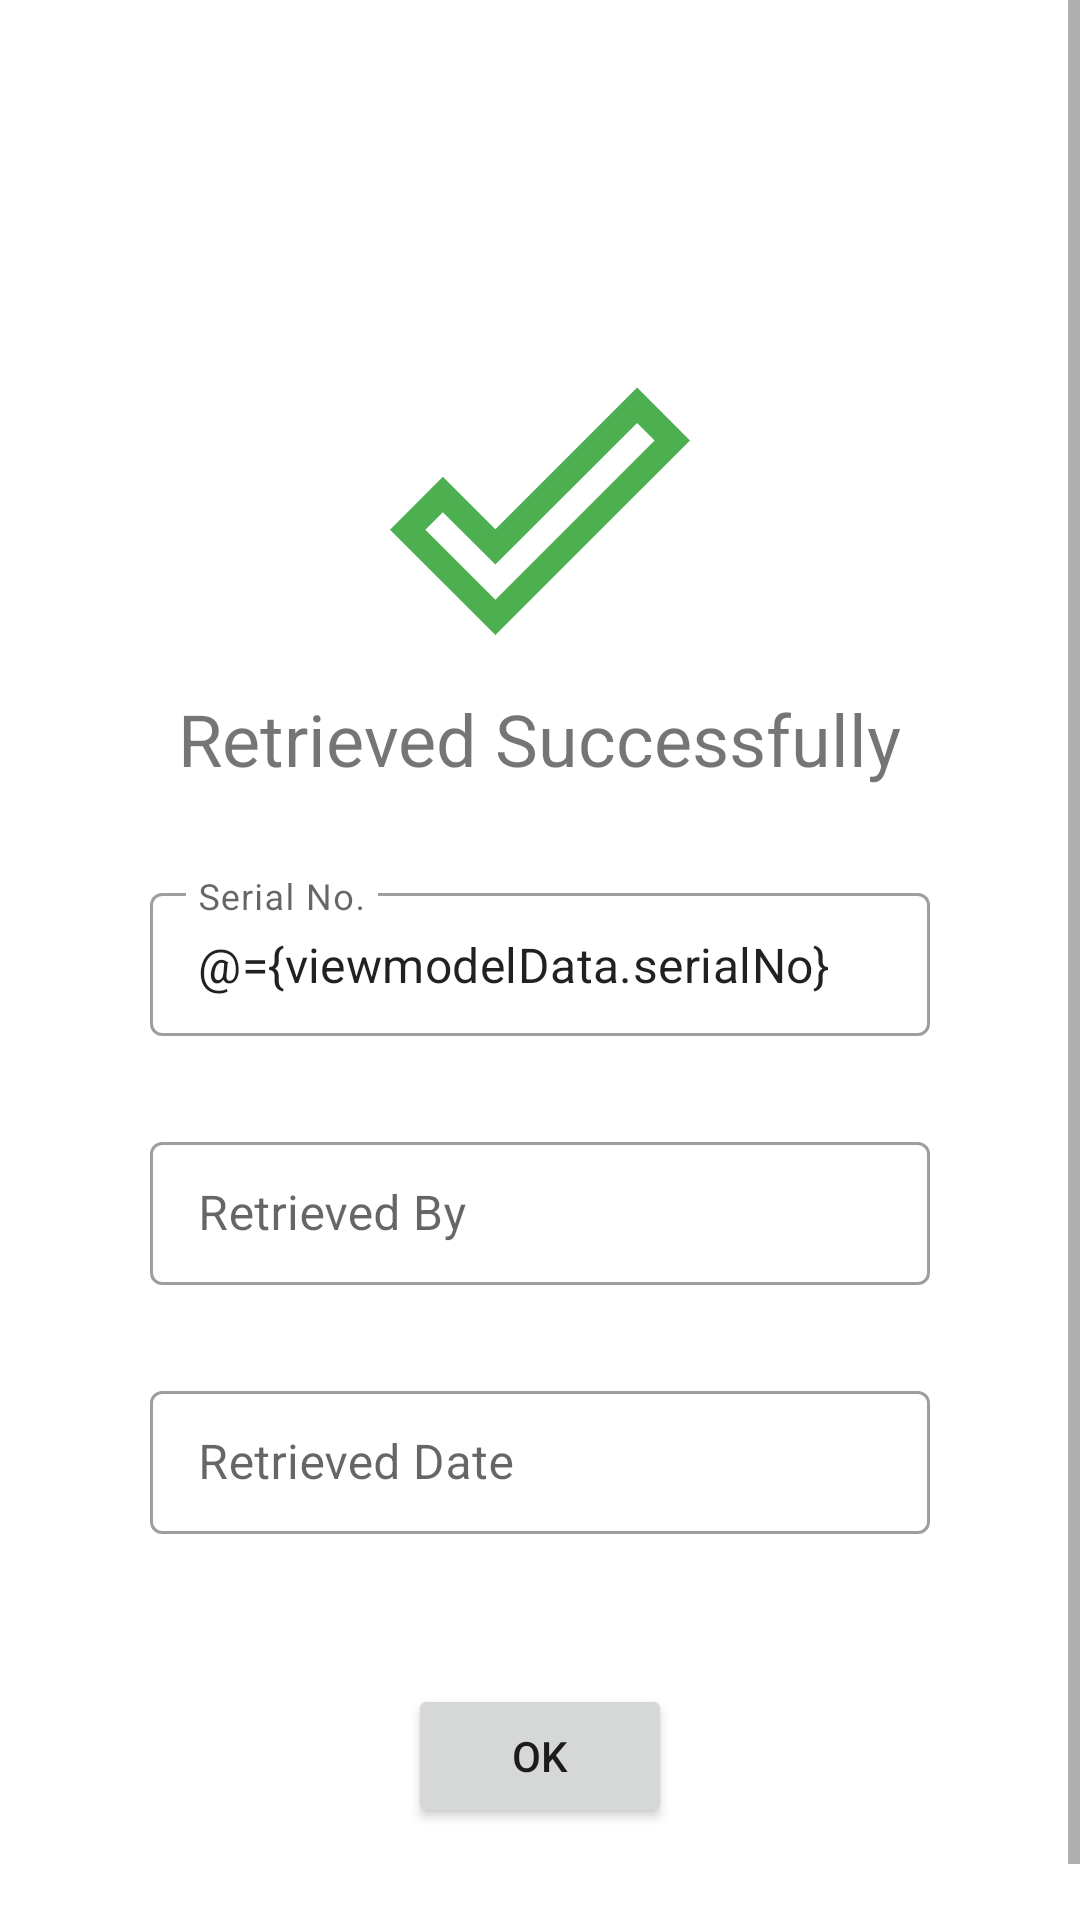

Icon bounding boxes for this 1080 x 1920 phone screenshot, format bbox=[x1, y1, x2, y2]:
done: bbox=[390, 387, 690, 635]
